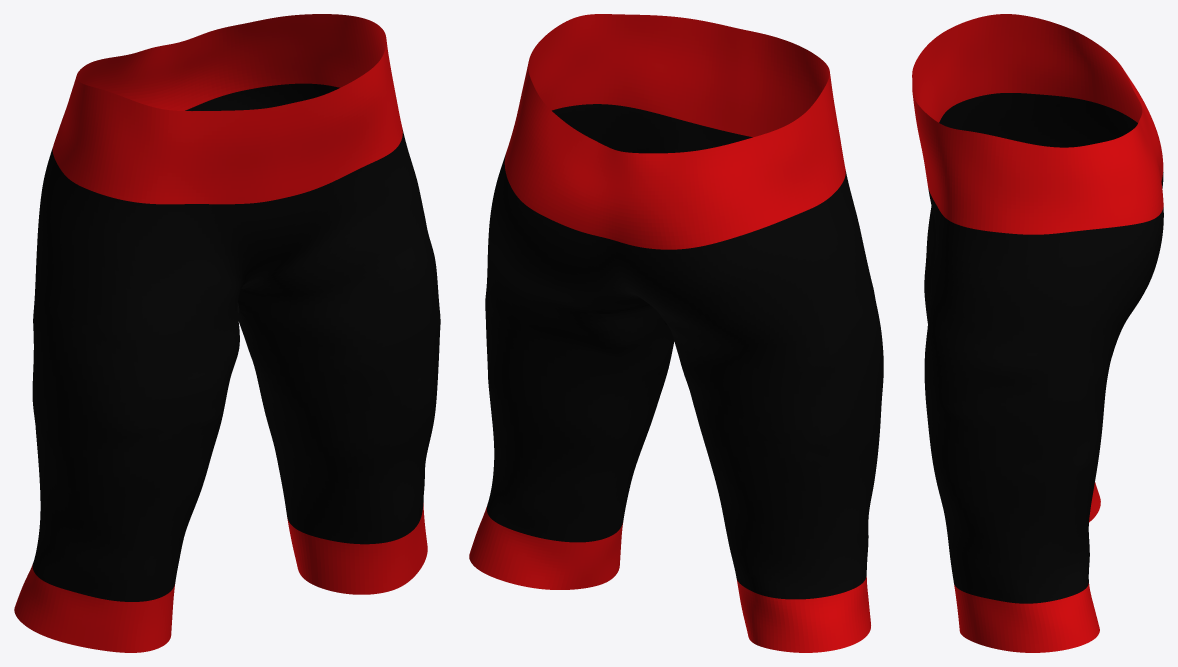
File: Pantaloncini.fbx
The picture shows the model from 3 angles, left to right: view 1: azimuth 30°, elevation 25°; view 2: azimuth 150°, elevation 25°; view 3: azimuth 270°, elevation 25°; orthographic projection. The views are drawn at different scales.
Visible parts, largest first — view 1: Plane; view 2: Plane; view 3: Plane.
Boxes of the visible parts, x1,y1,x2,y2 form: Plane: [14, 14, 440, 652]; Plane: [469, 14, 883, 652]; Plane: [912, 14, 1163, 652].
Bounding box in the file's own units: 160 × 214 × 96.82.
